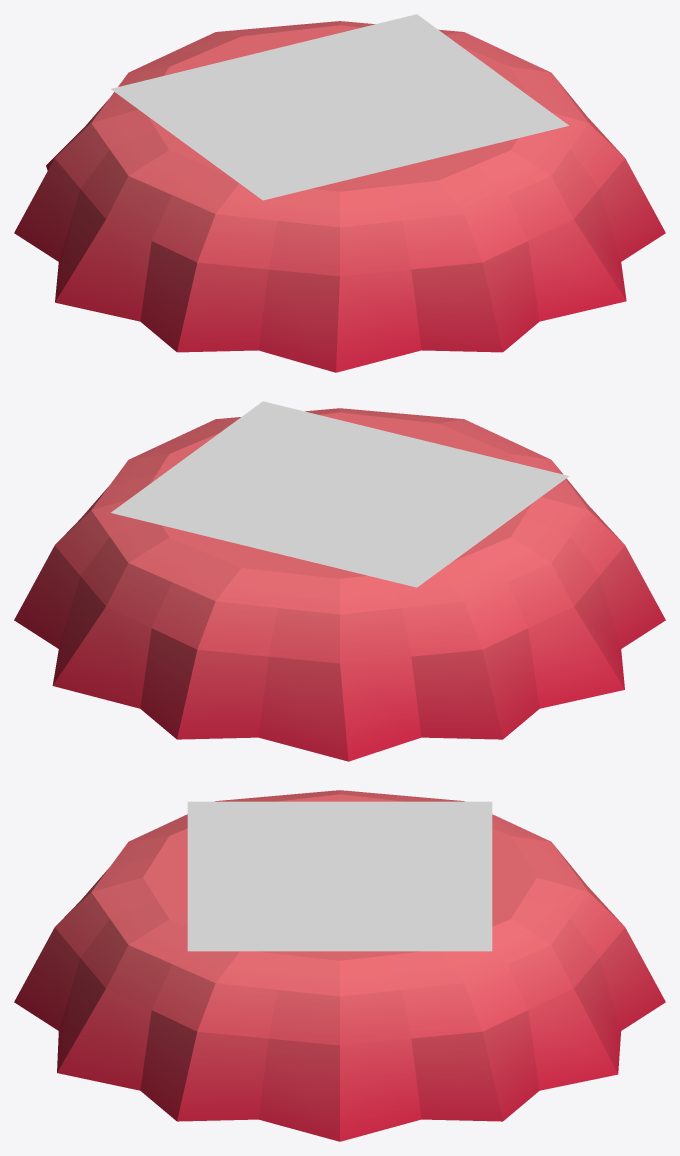
Rendered from bottleCap.fbx.
The picture shows the model from 3 angles, top to bottom: view 1: azimuth 30°, elevation 25°; view 2: azimuth 150°, elevation 25°; view 3: azimuth 270°, elevation 25°; orthographic projection.
Parts seen in each view (by area): view 1: Cylinder.010; view 2: Cylinder.010; view 3: Cylinder.010.
Boxes of the visible parts, box(x1,y1,x2,y2) form: Cylinder.010: box(14, 14, 665, 372); Cylinder.010: box(14, 401, 665, 761); Cylinder.010: box(14, 790, 665, 1141).
Bounding box in the file's own units: 225 × 47.33 × 222.
